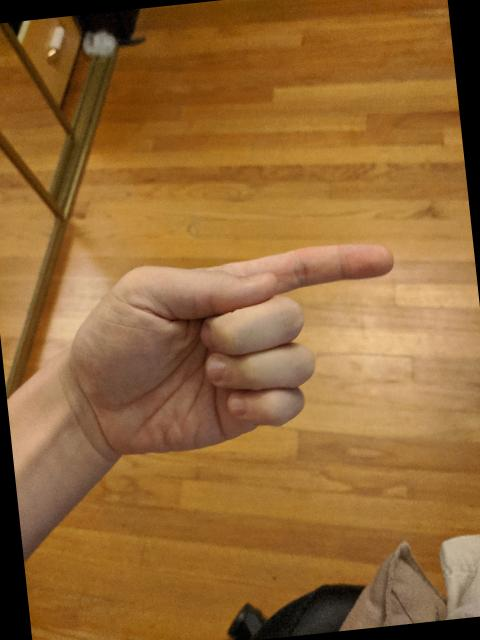G: (59, 233, 417, 468)
